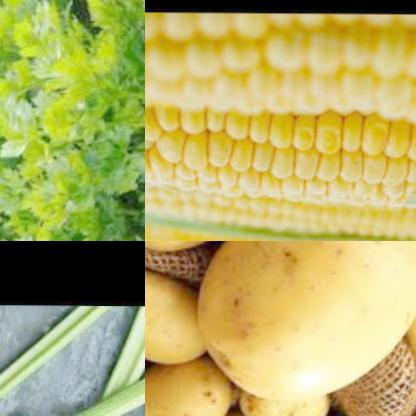celery: (0, 0, 145, 241), (0, 306, 145, 416), (0, 306, 116, 416), (0, 343, 145, 416)
corn: (145, 13, 416, 136), (145, 104, 416, 219), (145, 199, 416, 241)
potato: (196, 241, 416, 396), (145, 264, 247, 378), (145, 357, 238, 416), (233, 389, 344, 416), (145, 241, 266, 265)
